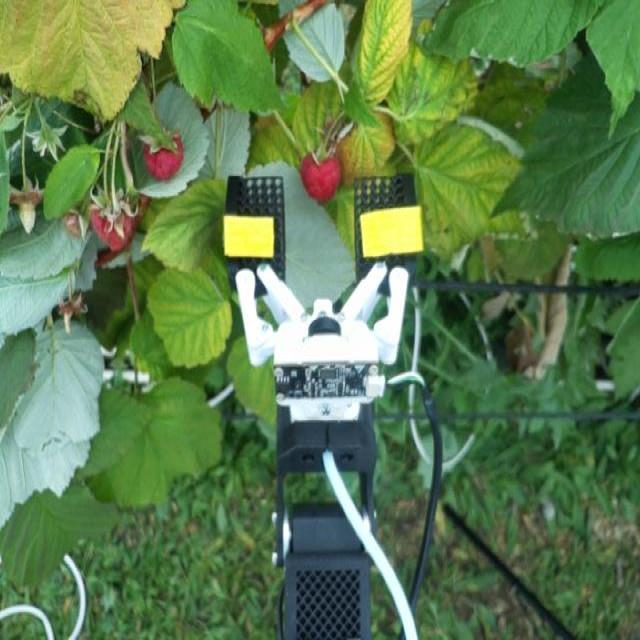Riped berries: (92, 193, 140, 253), (139, 126, 185, 182), (298, 147, 343, 204)
